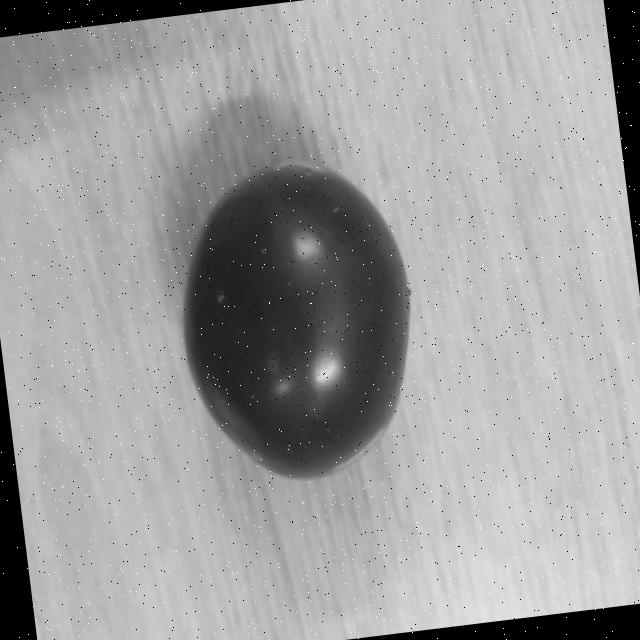Ripe: (159, 144, 436, 502)
